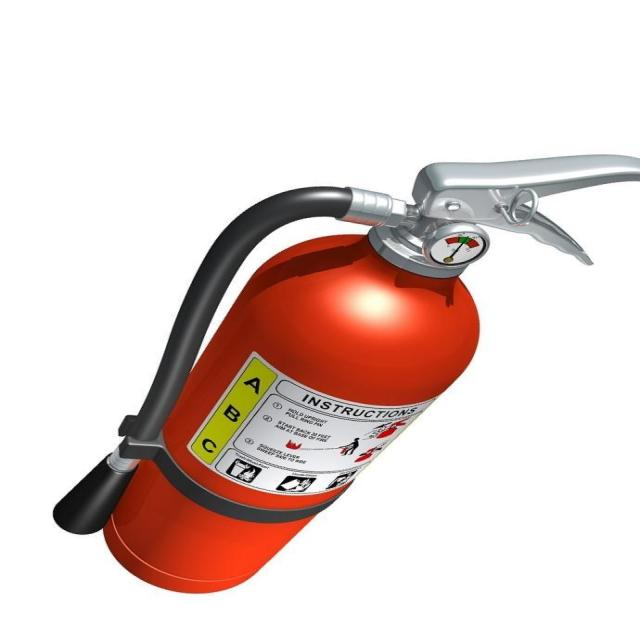fire_extinguisher: (47, 148, 639, 598)
